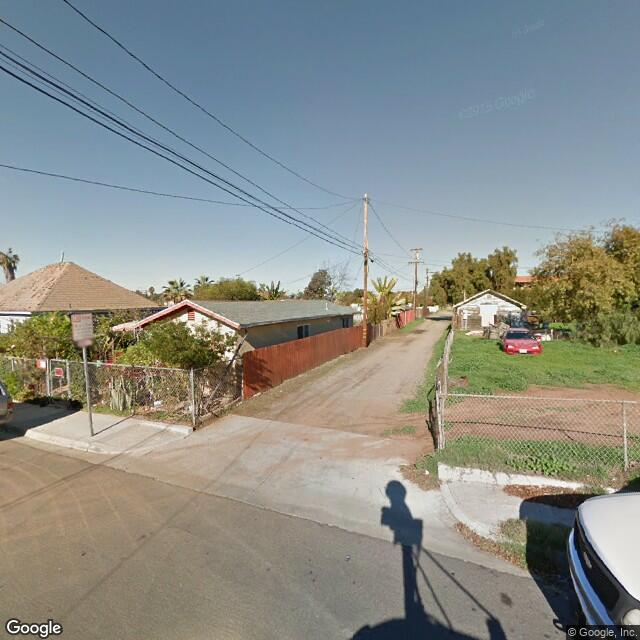litter: (419, 468, 441, 478)
